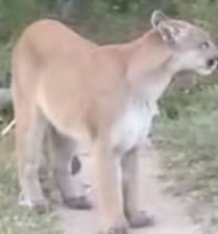Mountain Lion: (9, 6, 216, 229)
